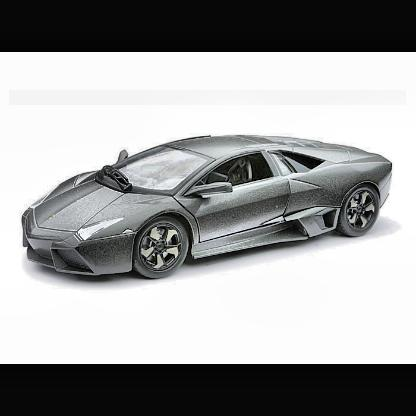Lamborghini Reventon Coupe 2008: (20, 136, 392, 285)
